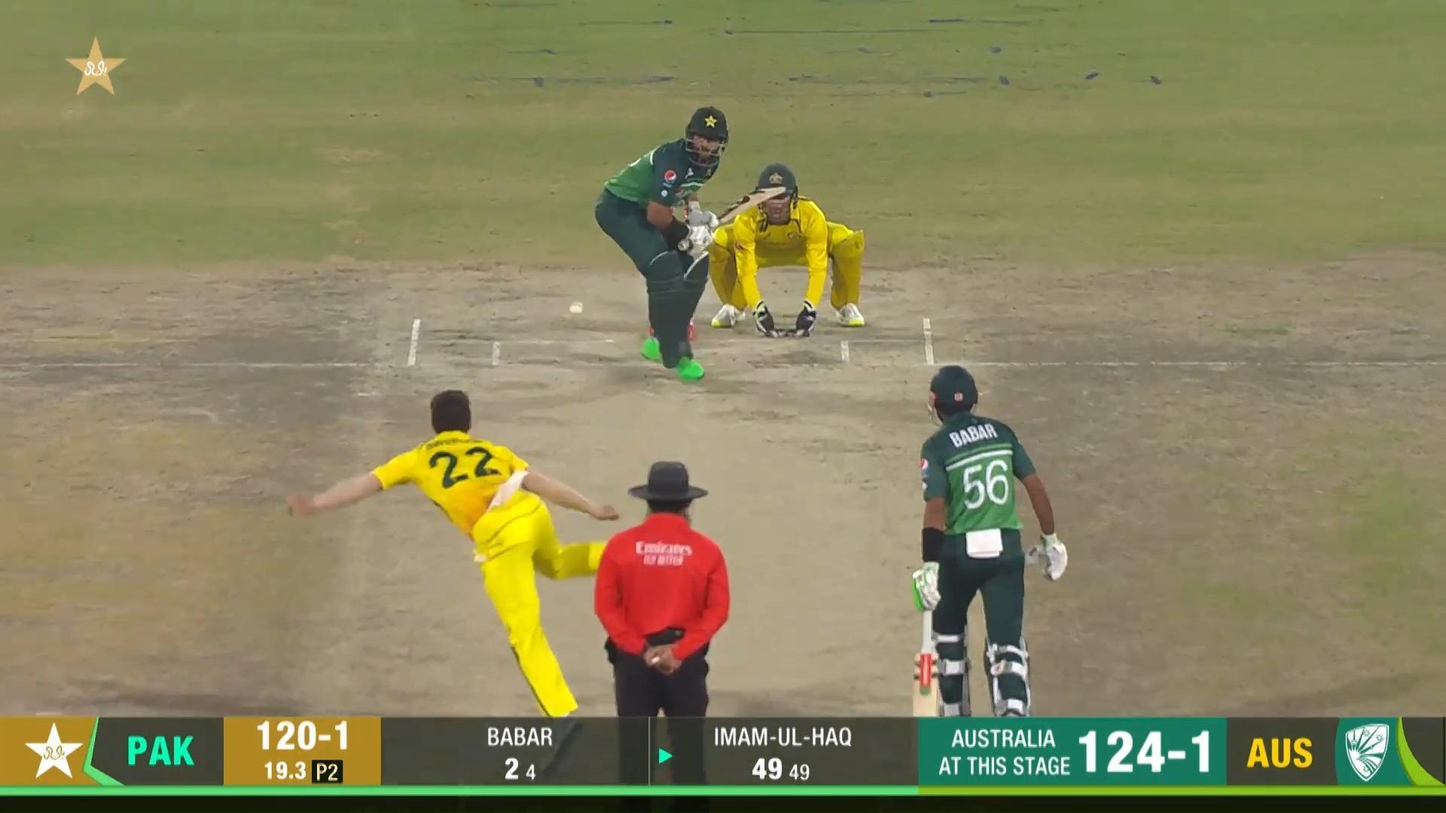BM 1: (594, 105, 788, 381)
BO: (285, 389, 669, 780)
